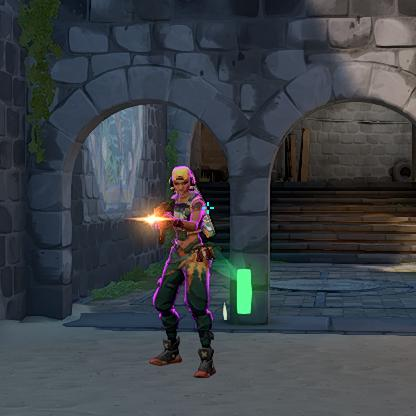enemyBody: (172, 198, 197, 239)
enemyHead: (172, 171, 190, 194)
